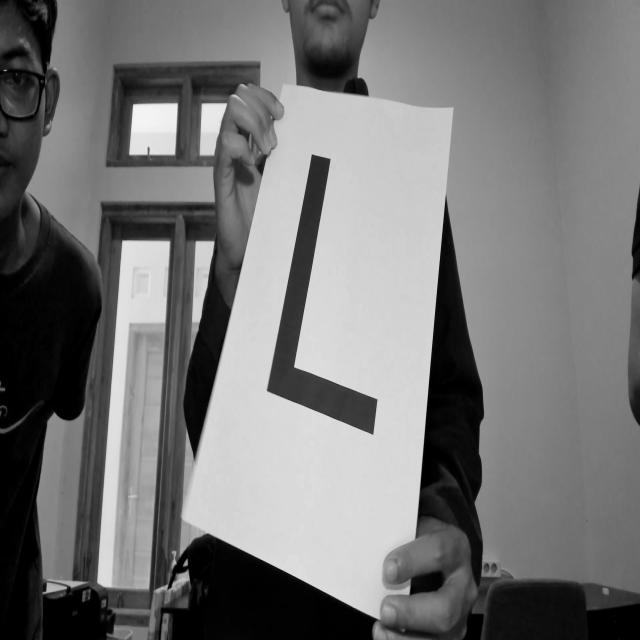l: (261, 142, 404, 440)
